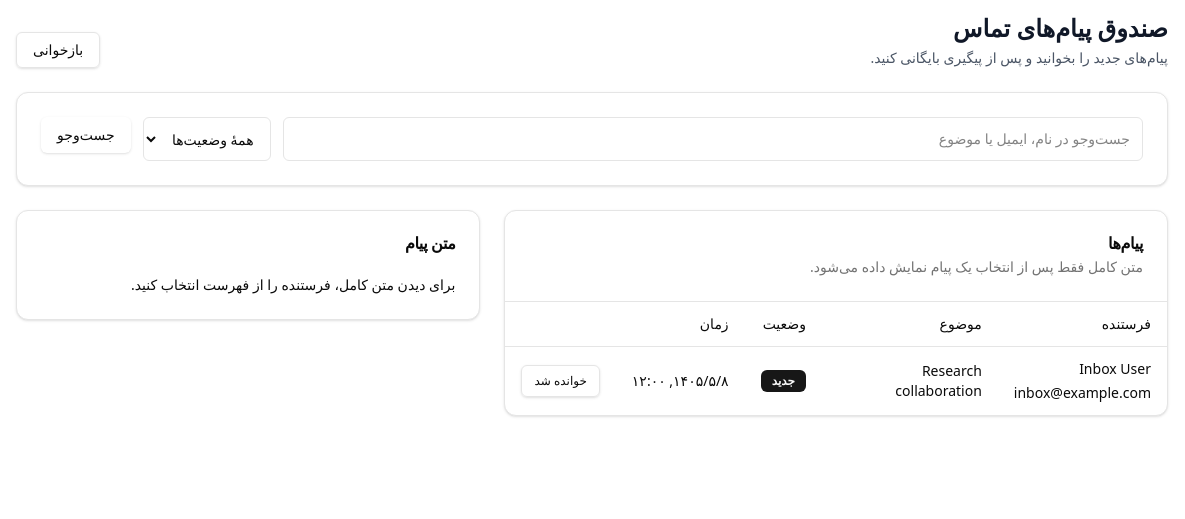
AdminContactInboxPage › shows an operator-readable audit timeline after selecting a message
Click the button "Inbox User inbox@example.com" at (1082, 381), box [1014,359,1151,403]
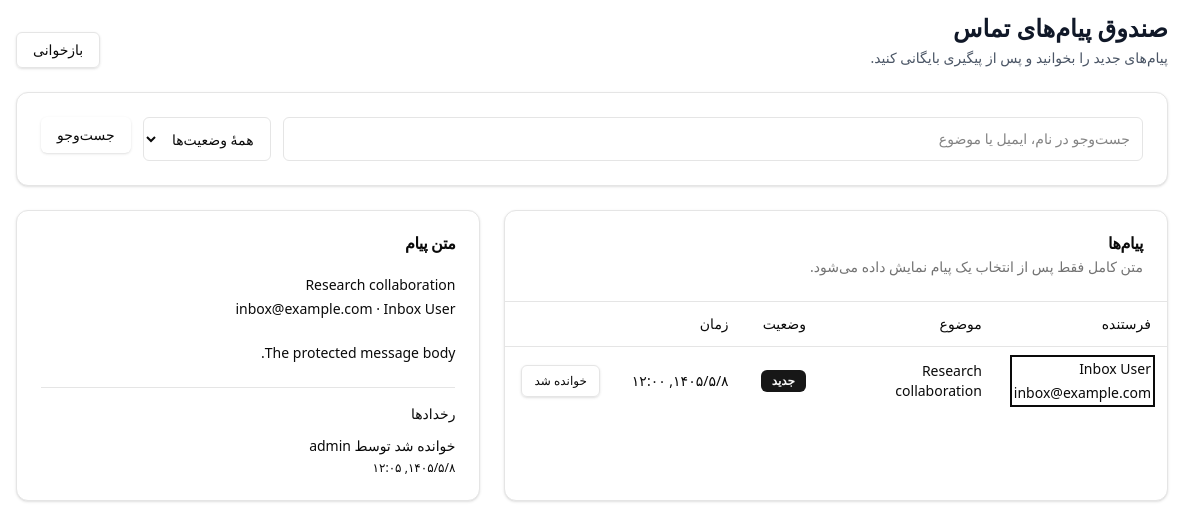
Expected: the text "The protected message body." is shown, [261,343,456,362]
Expected: the text "خوانده شد توسط admin" is shown, [309,436,455,455]
